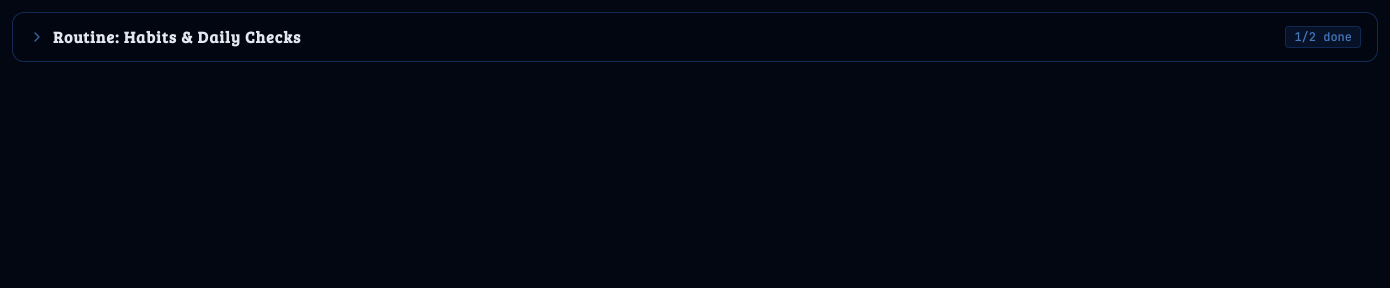
Test case: Sprint C2: Day Plan Board UI Component Test Suite › Routine Drawer Component › collapses by default and displays separate completion fraction (1/2 done)
The image size is (1390, 288).
Check: the text with test id "routine-fraction" reads "1/2 done", box [1285, 26, 1361, 48]
Note: Toggle drawer open
Step 1. Click the button with test id "toggle-routine-drawer" → point(177, 36), box [13, 13, 1377, 61]
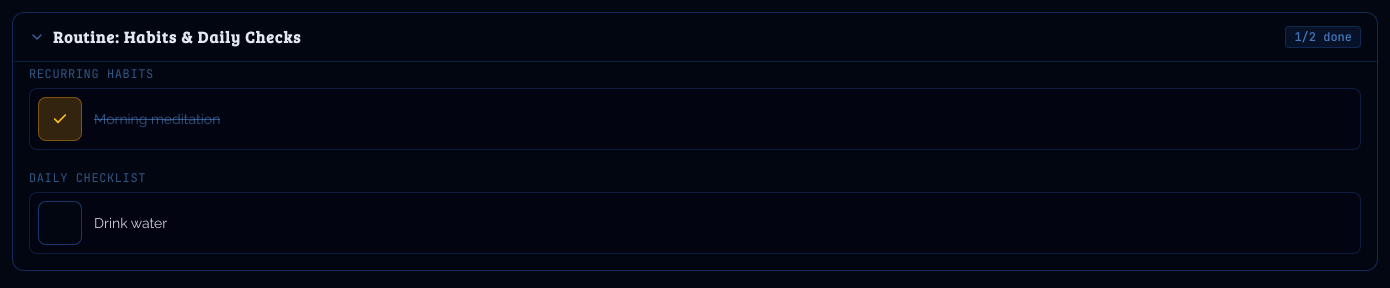
Check: the element with test id "routine-content" is shown
Check: the text "Morning meditation" is shown, box [94, 109, 220, 129]
Check: the text "Drink water" is shown, box [94, 213, 167, 233]
